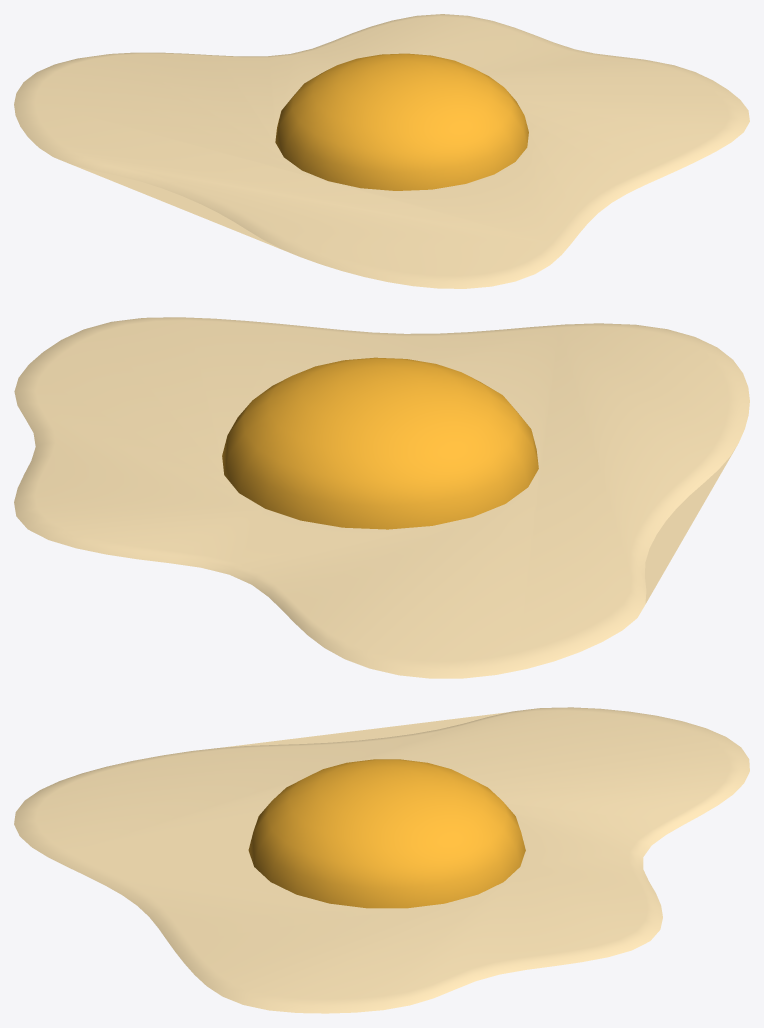
The model's file is Egg.fbx.
3 renders of one model, top to bottom at view 1: azimuth 30°, elevation 25°; view 2: azimuth 150°, elevation 25°; view 3: azimuth 270°, elevation 25°, orthographic. The views are drawn at different scales.
Parts seen in each view (by area): view 1: Egg; view 2: Egg; view 3: Egg.
Part boxes in pixels (bbox=[...]): Egg: bbox=[14, 14, 749, 288]; Egg: bbox=[14, 317, 749, 678]; Egg: bbox=[14, 707, 749, 1013].
Size of the model in its own units: 0.6469 by 0.0744 by 0.6572.
